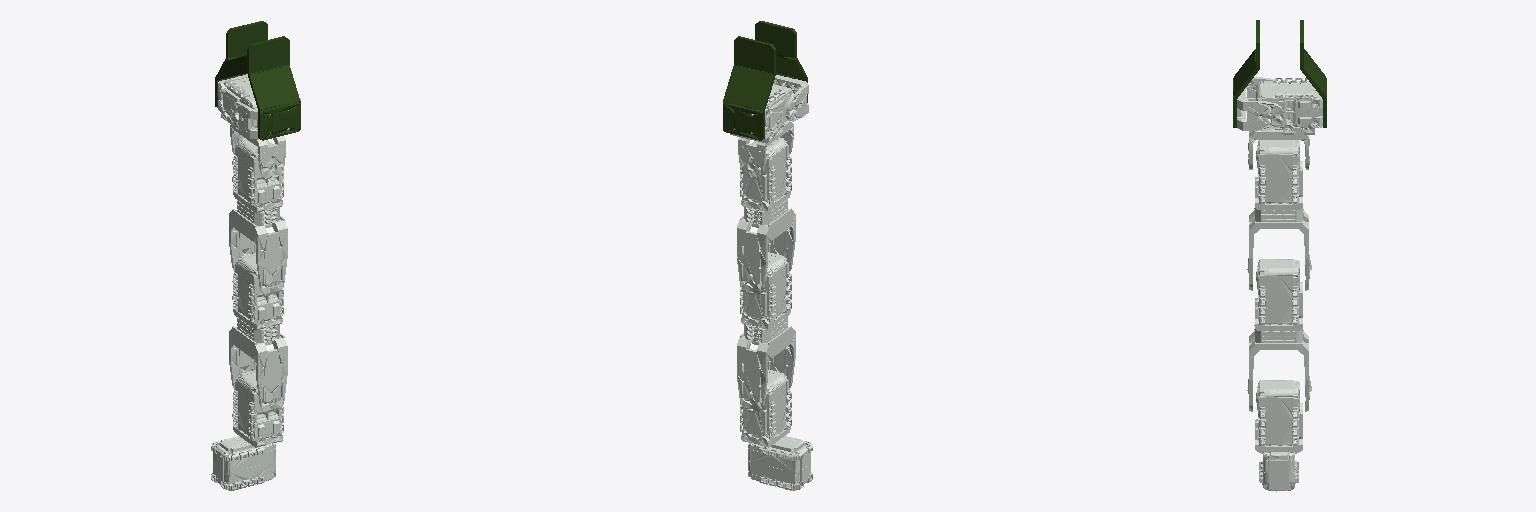
The robot description file, URDF, robot "turtlebot_arm":
<?xml version="1.0" ?>
<!-- =================================================================================== -->
<!-- |    This document was autogenerated by xacro from turtlebot_arm.urdf.xacro       | -->
<!-- |    EDITING THIS FILE BY HAND IS NOT RECOMMENDED                                 | -->
<!-- =================================================================================== -->
<!-- Describe URDF for Turtlebot Arm -->
<robot name="turtlebot_arm" xmlns:xacro="http://ros.org/wiki/xacro">
  <!-- We can configure joints velocity limit and lower/upper limits
          to allow access to different operational areas, e.g. left handed vs. right handed robot -->
  <!-- Included URDF Files -->
  <material name="White">
    <color rgba="0.87 0.90 0.87 1.0"/>
  </material>
  <material name="Black">
    <color rgba="0.08 0.08 0.08 1.0"/>
  </material>
  <material name="Gray">
    <color rgba="0.2 0.2 0.21 1.0"/>
  </material>
  <material name="Green">
    <color rgba="0.22 0.32 0.14 1.0"/>
  </material>
  <!-- As we don't have here a turtlebot base, add a base_link link as its location reference -->
  <link name="base_link"/>
  <!-- Turtlebot arm macro -->
  <link name="arm_base_link"/>
  <joint name="arm_base_joint" type="fixed">
    <origin xyz="0.1 0.03 0.435"/>
    <parent link="base_link"/>
    <child link="arm_base_link"/>
  </joint>
  <link name="gripper_link"/>
  <joint name="gripper_link_joint" type="revolute">
    <origin rpy="0 -1.57 0" xyz="0 0 0.112"/>
    <parent link="arm_wrist_flex_link"/>
    <child link="gripper_link"/>
    <limit effort="30" lower="-3.14" upper="3.14" velocity="1"/>
    <axis xyz="1 0 0"/>
  </joint>
  <joint name="arm_shoulder_pan_servo_joint" type="fixed">
    <origin rpy="1.570795 0 1.570795" xyz="0 0 0"/>
    <parent link="arm_base_link"/>
    <child link="arm_shoulder_pan_servo_link"/>
  </joint>
  <link name="arm_shoulder_pan_servo_link">
    <inertial>
      <mass value="0.055"/>
      <origin xyz="0 0 0"/>
      <inertia ixx="0.000017012" ixy="0.0" ixz="0.0" iyy="0.000013258" iyz="0.0" izz="0.000009483"/>
    </inertial>
    <visual>
      <origin rpy="0 0 0" xyz=" 0 0 0 "/>
      <geometry>
        <mesh filename="package://turtlebot_arm_description/meshes/ax12_box.stl" scale="0.001 0.001 0.001"/>
      </geometry>
      <material name="White"/>
    </visual>
    <collision>
      <origin rpy="0 0 0" xyz="0.0 0.0 -0.01241"/>
      <geometry>
        <box size="0.025 0.038 0.04762"/>
      </geometry>
    </collision>
  </link>
  <gazebo reference="arm_shoulder_pan_servo_link">
    <material>Gazebo/Black</material>
    <selfCollide>true</selfCollide>
    <gravity>true</gravity>
  </gazebo>
  <joint name="arm_shoulder_pan_joint" type="revolute">
    <origin rpy="-1.570795 1.570795 3.14159" xyz="0 0.019 0"/>
    <axis xyz="0 0 -1"/>
    <limit effort="30" lower="-2.617" upper="2.617" velocity="1.571"/>
    <dynamics friction="0.13"/>
    <parent link="arm_shoulder_pan_servo_link"/>
    <child link="arm_shoulder_pan_link"/>
  </joint>
  <link name="arm_shoulder_pan_link">
    <inertial>
      <mass value="0.008"/>
      <origin xyz="0 0 0"/>
      <inertia ixx="0.000001" ixy="0.0" ixz="0.0" iyy="0.000001" iyz="0.0" izz="0.000001"/>
    </inertial>
    <visual>
      <origin rpy="0 0 0" xyz=" 0 0 0 "/>
      <geometry>
        <mesh filename="package://turtlebot_arm_description/meshes/F3.stl" scale="0.001 0.001 0.001"/>
      </geometry>
      <material name="White"/>
    </visual>
    <collision>
      <origin rpy="0 0 0" xyz="0.0 0.0 -0.0045"/>
      <geometry>
        <box size="0.025 0.038 0.009"/>
      </geometry>
    </collision>
  </link>
  <gazebo reference="arm_shoulder_pan_link">
    <material>Gazebo/White</material>
    <selfCollide>true</selfCollide>
    <gravity>true</gravity>
  </gazebo>
  <joint name="arm_shoulder_lift_servo_joint" type="fixed">
    <origin rpy="0 3.14159 0" xyz="0 0 -0.0415"/>
    <parent link="arm_shoulder_pan_link"/>
    <child link="arm_shoulder_lift_servo_link"/>
  </joint>
  <link name="arm_shoulder_lift_servo_link">
    <inertial>
      <mass value="0.055"/>
      <origin xyz="0 0 0"/>
      <inertia ixx="0.000017012" ixy="0.0" ixz="0.0" iyy="0.000013258" iyz="0.0" izz="0.000009483"/>
    </inertial>
    <visual>
      <origin rpy="0 0 0" xyz=" 0 0 0 "/>
      <geometry>
        <mesh filename="package://turtlebot_arm_description/meshes/ax12_box.stl" scale="0.001 0.001 0.001"/>
      </geometry>
      <material name="White"/>
    </visual>
    <collision>
      <origin rpy="0 0 0" xyz="0.0 0.0 -0.01241"/>
      <geometry>
        <box size="0.025 0.038 0.04762"/>
      </geometry>
    </collision>
  </link>
  <gazebo reference="arm_shoulder_lift_servo_link">
    <material>Gazebo/Black</material>
    <selfCollide>true</selfCollide>
    <gravity>true</gravity>
  </gazebo>
  <joint name="arm_shoulder_lift_joint" type="revolute">
    <origin rpy="0 0 0" xyz="0 0 0"/>
    <axis xyz="0 1 0"/>
    <limit effort="30" lower="-2.617" upper="2.617" velocity="1.571"/>
    <dynamics friction="0.13"/>
    <parent link="arm_shoulder_lift_servo_link"/>
    <child link="arm_shoulder_lift_link"/>
  </joint>
  <link name="arm_shoulder_lift_link">
    <inertial>
      <mass value="0.016"/>
      <origin xyz="0 0 0"/>
      <inertia ixx="0.000001" ixy="0.0" ixz="0.0" iyy="0.000001" iyz="0.0" izz="0.000001"/>
    </inertial>
    <visual>
      <origin rpy="0 0 0" xyz=" 0 0 0 "/>
      <geometry>
        <mesh filename="package://turtlebot_arm_description/meshes/F4.stl" scale="0.001 0.001 0.001"/>
      </geometry>
      <material name="White"/>
    </visual>
    <collision>
      <origin rpy="0 0 0" xyz="0.0 0.0 0.0215"/>
      <geometry>
        <box size="0.028 0.0485 0.065"/>
      </geometry>
    </collision>
  </link>
  <gazebo reference="arm_shoulder_lift_link">
    <material>Gazebo/White</material>
    <selfCollide>true</selfCollide>
    <gravity>true</gravity>
  </gazebo>
  <joint name="arm_shoulder_F10_0_joint" type="fixed">
    <origin rpy="0 0 0" xyz="0 0 0.0545"/>
    <parent link="arm_shoulder_lift_link"/>
    <child link="arm_shoulder_F10_0_link"/>
  </joint>
  <link name="arm_shoulder_F10_0_link">
    <inertial>
      <mass value="0.004"/>
      <origin xyz="0 0 0"/>
      <inertia ixx="0.000001" ixy="0.0" ixz="0.0" iyy="0.000001" iyz="0.0" izz="0.000001"/>
    </inertial>
    <visual>
      <origin rpy="0 0 0" xyz=" 0 0 0 "/>
      <geometry>
        <mesh filename="package://turtlebot_arm_description/meshes/F10.stl" scale="0.001 0.001 0.001"/>
      </geometry>
      <material name="White"/>
    </visual>
    <collision>
      <origin rpy="0 0 0" xyz="0.0 0.0 0.0"/>
      <geometry>
        <box size="0.025 0.038 0.004"/>
      </geometry>
    </collision>
  </link>
  <gazebo reference="arm_shoulder_F10_0_link">
    <material>Gazebo/White</material>
    <selfCollide>true</selfCollide>
    <gravity>true</gravity>
  </gazebo>
  <joint name="arm_shoulder_F10_1_joint" type="fixed">
    <origin rpy="0 0 0" xyz="0 0 0.004"/>
    <parent link="arm_shoulder_F10_0_link"/>
    <child link="arm_shoulder_F10_1_link"/>
  </joint>
  <link name="arm_shoulder_F10_1_link">
    <inertial>
      <mass value="0.004"/>
      <origin xyz="0 0 0"/>
      <inertia ixx="0.000001" ixy="0.0" ixz="0.0" iyy="0.000001" iyz="0.0" izz="0.000001"/>
    </inertial>
    <visual>
      <origin rpy="0 0 0" xyz=" 0 0 0 "/>
      <geometry>
        <mesh filename="package://turtlebot_arm_description/meshes/F10.stl" scale="0.001 0.001 0.001"/>
      </geometry>
      <material name="White"/>
    </visual>
    <collision>
      <origin rpy="0 0 0" xyz="0.0 0.0 0.0"/>
      <geometry>
        <box size="0.025 0.038 0.004"/>
      </geometry>
    </collision>
  </link>
  <gazebo reference="arm_shoulder_F10_1_link">
    <material>Gazebo/White</material>
    <selfCollide>true</selfCollide>
    <gravity>true</gravity>
  </gazebo>
  <joint name="arm_shoulder_F10_2_joint" type="fixed">
    <origin rpy="0 0 0" xyz="0 0 0.004"/>
    <parent link="arm_shoulder_F10_1_link"/>
    <child link="arm_shoulder_F10_2_link"/>
  </joint>
  <link name="arm_shoulder_F10_2_link">
    <inertial>
      <mass value="0.004"/>
      <origin xyz="0 0 0"/>
      <inertia ixx="0.000001" ixy="0.0" ixz="0.0" iyy="0.000001" iyz="0.0" izz="0.000001"/>
    </inertial>
    <visual>
      <origin rpy="0 0 0" xyz=" 0 0 0 "/>
      <geometry>
        <mesh filename="package://turtlebot_arm_description/meshes/F10.stl" scale="0.001 0.001 0.001"/>
      </geometry>
      <material name="White"/>
    </visual>
    <collision>
      <origin rpy="0 0 0" xyz="0.0 0.0 0.0"/>
      <geometry>
        <box size="0.025 0.038 0.004"/>
      </geometry>
    </collision>
  </link>
  <gazebo reference="arm_shoulder_F10_2_link">
    <material>Gazebo/White</material>
    <selfCollide>true</selfCollide>
    <gravity>true</gravity>
  </gazebo>
  <joint name="arm_shoulder_F3_0_joint" type="fixed">
    <origin rpy="0 3.14159 0" xyz="0 0 0.002"/>
    <parent link="arm_shoulder_F10_2_link"/>
    <child link="arm_shoulder_F3_0_link"/>
  </joint>
  <link name="arm_shoulder_F3_0_link">
    <inertial>
      <mass value="0.005"/>
      <origin xyz="0 0 0"/>
      <inertia ixx="0.000001" ixy="0.0" ixz="0.0" iyy="0.000001" iyz="0.0" izz="0.000001"/>
    </inertial>
    <visual>
      <origin rpy="0 0 0" xyz=" 0 0 0 "/>
      <geometry>
        <mesh filename="package://turtlebot_arm_description/meshes/F3.stl" scale="0.001 0.001 0.001"/>
      </geometry>
      <material name="White"/>
    </visual>
    <collision>
      <origin rpy="0 0 0" xyz="0.0 0.0 -0.0045"/>
      <geometry>
        <box size="0.025 0.038 0.009"/>
      </geometry>
    </collision>
  </link>
  <gazebo reference="arm_shoulder_F3_0_link">
    <material>Gazebo/White</material>
    <selfCollide>true</selfCollide>
    <gravity>true</gravity>
  </gazebo>
  <joint name="arm_elbow_flex_servo_joint" type="fixed">
    <origin rpy="0 3.14159 0" xyz="0 0 -0.0415"/>
    <parent link="arm_shoulder_F3_0_link"/>
    <child link="arm_elbow_flex_servo_link"/>
  </joint>
  <link name="arm_elbow_flex_servo_link">
    <inertial>
      <mass value="0.055"/>
      <origin xyz="0 0 0"/>
      <inertia ixx="0.000017012" ixy="0.0" ixz="0.0" iyy="0.000013258" iyz="0.0" izz="0.000009483"/>
    </inertial>
    <visual>
      <origin rpy="0 0 0" xyz=" 0 0 0 "/>
      <geometry>
        <mesh filename="package://turtlebot_arm_description/meshes/ax12_box.stl" scale="0.001 0.001 0.001"/>
      </geometry>
      <material name="White"/>
    </visual>
    <collision>
      <origin rpy="0 0 0" xyz="0.0 0.0 -0.01241"/>
      <geometry>
        <box size="0.025 0.038 0.04762"/>
      </geometry>
    </collision>
  </link>
  <gazebo reference="arm_elbow_flex_servo_link">
    <material>Gazebo/Black</material>
    <selfCollide>true</selfCollide>
    <gravity>true</gravity>
  </gazebo>
  <joint name="arm_elbow_flex_joint" type="revolute">
    <origin rpy="0 0 0" xyz="0 0 0"/>
    <axis xyz="0 1 0"/>
    <limit effort="30" lower="-2.617" upper="2.617" velocity="1.571"/>
    <dynamics friction="0.13"/>
    <parent link="arm_elbow_flex_servo_link"/>
    <child link="arm_elbow_flex_link"/>
  </joint>
  <link name="arm_elbow_flex_link">
    <inertial>
      <mass value="0.016"/>
      <origin xyz="0 0 0"/>
      <inertia ixx="0.000001" ixy="0.0" ixz="0.0" iyy="0.000001" iyz="0.0" izz="0.000001"/>
    </inertial>
    <visual>
      <origin rpy="0 0 0" xyz=" 0 0 0 "/>
      <geometry>
        <mesh filename="package://turtlebot_arm_description/meshes/F4.stl" scale="0.001 0.001 0.001"/>
      </geometry>
      <material name="White"/>
    </visual>
    <collision>
      <origin rpy="0 0 0" xyz="0.0 0.0 0.0215"/>
      <geometry>
        <box size="0.028 0.0485 0.065"/>
      </geometry>
    </collision>
  </link>
  <gazebo reference="arm_elbow_flex_link">
    <material>Gazebo/White</material>
    <selfCollide>true</selfCollide>
    <gravity>true</gravity>
  </gazebo>
  <joint name="arm_elbow_F10_0_joint" type="fixed">
    <origin rpy="0 0 0" xyz="0 0 0.0545"/>
    <parent link="arm_elbow_flex_link"/>
    <child link="arm_elbow_F10_0_link"/>
  </joint>
  <link name="arm_elbow_F10_0_link">
    <inertial>
      <mass value="0.004"/>
      <origin xyz="0 0 0"/>
      <inertia ixx="0.000001" ixy="0.0" ixz="0.0" iyy="0.000001" iyz="0.0" izz="0.000001"/>
    </inertial>
    <visual>
      <origin rpy="0 0 0" xyz=" 0 0 0 "/>
      <geometry>
        <mesh filename="package://turtlebot_arm_description/meshes/F10.stl" scale="0.001 0.001 0.001"/>
      </geometry>
      <material name="White"/>
    </visual>
    <collision>
      <origin rpy="0 0 0" xyz="0.0 0.0 0.0"/>
      <geometry>
        <box size="0.025 0.038 0.004"/>
      </geometry>
    </collision>
  </link>
  <gazebo reference="arm_elbow_F10_0_link">
    <material>Gazebo/White</material>
    <selfCollide>true</selfCollide>
    <gravity>true</gravity>
  </gazebo>
  <joint name="arm_elbow_F10_1_joint" type="fixed">
    <origin rpy="0 0 0" xyz="0 0 0.004"/>
    <parent link="arm_elbow_F10_0_link"/>
    <child link="arm_elbow_F10_1_link"/>
  </joint>
  <link name="arm_elbow_F10_1_link">
    <inertial>
      <mass value="0.004"/>
      <origin xyz="0 0 0"/>
      <inertia ixx="0.000001" ixy="0.0" ixz="0.0" iyy="0.000001" iyz="0.0" izz="0.000001"/>
    </inertial>
    <visual>
      <origin rpy="0 0 0" xyz=" 0 0 0 "/>
      <geometry>
        <mesh filename="package://turtlebot_arm_description/meshes/F10.stl" scale="0.001 0.001 0.001"/>
      </geometry>
      <material name="White"/>
    </visual>
    <collision>
      <origin rpy="0 0 0" xyz="0.0 0.0 0.0"/>
      <geometry>
        <box size="0.025 0.038 0.004"/>
      </geometry>
    </collision>
  </link>
  <gazebo reference="arm_elbow_F10_1_link">
    <material>Gazebo/White</material>
    <selfCollide>true</selfCollide>
    <gravity>true</gravity>
  </gazebo>
  <joint name="arm_elbow_F10_2_joint" type="fixed">
    <origin rpy="0 0 0" xyz="0 0 0.004"/>
    <parent link="arm_elbow_F10_1_link"/>
    <child link="arm_elbow_F10_2_link"/>
  </joint>
  <link name="arm_elbow_F10_2_link">
    <inertial>
      <mass value="0.004"/>
      <origin xyz="0 0 0"/>
      <inertia ixx="0.000001" ixy="0.0" ixz="0.0" iyy="0.000001" iyz="0.0" izz="0.000001"/>
    </inertial>
    <visual>
      <origin rpy="0 0 0" xyz=" 0 0 0 "/>
      <geometry>
        <mesh filename="package://turtlebot_arm_description/meshes/F10.stl" scale="0.001 0.001 0.001"/>
      </geometry>
      <material name="White"/>
    </visual>
    <collision>
      <origin rpy="0 0 0" xyz="0.0 0.0 0.0"/>
      <geometry>
        <box size="0.025 0.038 0.004"/>
      </geometry>
    </collision>
  </link>
  <gazebo reference="arm_elbow_F10_2_link">
    <material>Gazebo/White</material>
    <selfCollide>true</selfCollide>
    <gravity>true</gravity>
  </gazebo>
  <joint name="arm_elbow_F3_0_joint" type="fixed">
    <origin rpy="0 3.14159 0" xyz="0 0 0.002"/>
    <parent link="arm_elbow_F10_2_link"/>
    <child link="arm_elbow_F3_0_link"/>
  </joint>
  <link name="arm_elbow_F3_0_link">
    <inertial>
      <mass value="0.005"/>
      <origin xyz="0 0 0"/>
      <inertia ixx="0.000001" ixy="0.0" ixz="0.0" iyy="0.000001" iyz="0.0" izz="0.000001"/>
    </inertial>
    <visual>
      <origin rpy="0 0 0" xyz=" 0 0 0 "/>
      <geometry>
        <mesh filename="package://turtlebot_arm_description/meshes/F3.stl" scale="0.001 0.001 0.001"/>
      </geometry>
      <material name="White"/>
    </visual>
    <collision>
      <origin rpy="0 0 0" xyz="0.0 0.0 -0.0045"/>
      <geometry>
        <box size="0.025 0.038 0.009"/>
      </geometry>
    </collision>
  </link>
  <gazebo reference="arm_elbow_F3_0_link">
    <material>Gazebo/White</material>
    <selfCollide>true</selfCollide>
    <gravity>true</gravity>
  </gazebo>
  <joint name="arm_wrist_flex_servo_joint" type="fixed">
    <origin rpy="0 3.14159 0" xyz="0 0 -0.0415"/>
    <parent link="arm_elbow_F3_0_link"/>
    <child link="arm_wrist_flex_servo_link"/>
  </joint>
  <link name="arm_wrist_flex_servo_link">
    <inertial>
      <mass value="0.055"/>
      <origin xyz="0 0 0"/>
      <inertia ixx="0.000017012" ixy="0.0" ixz="0.0" iyy="0.000013258" iyz="0.0" izz="0.000009483"/>
    </inertial>
    <visual>
      <origin rpy="0 0 0" xyz=" 0 0 0 "/>
      <geometry>
        <mesh filename="package://turtlebot_arm_description/meshes/ax12_box.stl" scale="0.001 0.001 0.001"/>
      </geometry>
      <material name="White"/>
    </visual>
    <collision>
      <origin rpy="0 0 0" xyz="0.0 0.0 -0.01241"/>
      <geometry>
        <box size="0.025 0.038 0.04762"/>
      </geometry>
    </collision>
  </link>
  <gazebo reference="arm_wrist_flex_servo_link">
    <material>Gazebo/Black</material>
    <selfCollide>true</selfCollide>
    <gravity>true</gravity>
  </gazebo>
  <joint name="arm_wrist_flex_joint" type="revolute">
    <origin rpy="0 0 0" xyz="0 0 0"/>
    <axis xyz="0 1 0"/>
    <limit effort="30" lower="-1.745" upper="1.745" velocity="1.571"/>
    <dynamics friction="0.13"/>
    <parent link="arm_wrist_flex_servo_link"/>
    <child link="arm_wrist_flex_link"/>
  </joint>
  <link name="arm_wrist_flex_link">
    <inertial>
      <mass value="0.010"/>
      <origin xyz="0 0 0"/>
      <inertia ixx="0.000001" ixy="0.0" ixz="0.0" iyy="0.000001" iyz="0.0" izz="0.000001"/>
    </inertial>
    <visual>
      <origin rpy="0 0 0" xyz=" 0 0 0 "/>
      <geometry>
        <mesh filename="package://turtlebot_arm_description/meshes/F2.stl" scale="0.001 0.001 0.001"/>
      </geometry>
      <material name="White"/>
    </visual>
    <collision>
      <origin rpy="0 0 0" xyz="0.0 0.0 0.00775"/>
      <geometry>
        <box size="0.025 0.0485 0.0375"/>
      </geometry>
    </collision>
  </link>
  <gazebo reference="arm_wrist_flex_link">
    <material>Gazebo/White</material>
    <selfCollide>true</selfCollide>
    <gravity>true</gravity>
  </gazebo>
  <joint name="arm_wrist_F3_0_joint" type="fixed">
    <origin rpy="0 3.14159 -1.570795" xyz="0 0.016 0.0265"/>
    <parent link="arm_wrist_flex_link"/>
    <child link="arm_wrist_F3_0_link"/>
  </joint>
  <link name="arm_wrist_F3_0_link">
    <inertial>
      <mass value="0.005"/>
      <origin xyz="0 0 0"/>
      <inertia ixx="0.000001" ixy="0.0" ixz="0.0" iyy="0.000001" iyz="0.0" izz="0.000001"/>
    </inertial>
    <visual>
      <origin rpy="0 0 0" xyz=" 0 0 0 "/>
      <geometry>
        <mesh filename="package://turtlebot_arm_description/meshes/F3.stl" scale="0.001 0.001 0.001"/>
      </geometry>
      <material name="White"/>
    </visual>
    <collision>
      <origin rpy="0 0 0" xyz="0.0 0.0 -0.0045"/>
      <geometry>
        <box size="0.025 0.038 0.009"/>
      </geometry>
    </collision>
  </link>
  <gazebo reference="arm_wrist_F3_0_link">
    <material>Gazebo/White</material>
    <selfCollide>true</selfCollide>
    <gravity>true</gravity>
  </gazebo>
  <joint name="gripper_servo_joint" type="fixed">
    <origin rpy="3.14159 1.570795 0" xyz="-0.02275 0 -0.019"/>
    <parent link="arm_wrist_F3_0_link"/>
    <child link="gripper_servo_link"/>
  </joint>
  <link name="gripper_servo_link">
    <inertial>
      <mass value="0.055"/>
      <origin xyz="0 0 0"/>
      <inertia ixx="0.000017012" ixy="0.0" ixz="0.0" iyy="0.000013258" iyz="0.0" izz="0.000009483"/>
    </inertial>
    <visual>
      <origin rpy="0 0 0" xyz=" 0 0 0 "/>
      <geometry>
        <mesh filename="package://turtlebot_arm_description/meshes/ax12_box.stl" scale="0.001 0.001 0.001"/>
      </geometry>
      <material name="White"/>
    </visual>
    <collision>
      <origin rpy="0 0 0" xyz="0.0 0.0 -0.01241"/>
      <geometry>
        <box size="0.025 0.038 0.04762"/>
      </geometry>
    </collision>
  </link>
  <gazebo reference="gripper_servo_link">
    <material>Gazebo/Black</material>
    <selfCollide>true</selfCollide>
    <gravity>true</gravity>
  </gazebo>
  <joint name="gripper_joint" type="revolute">
    <origin rpy="0 0 0" xyz="0 0 0"/>
    <axis xyz="0 1 0"/>
    <limit effort="30" lower="-0.40" upper="0.46" velocity="0.785"/>
    <parent link="gripper_servo_link"/>
    <child link="gripper_active_link"/>
  </joint>
  <link name="gripper_active_link">
    <inertial>
      <mass value="0.010"/>
      <origin xyz="0 0 0"/>
      <inertia ixx="0.000001" ixy="0.0" ixz="0.0" iyy="0.000001" iyz="0.0" izz="0.000001"/>
    </inertial>
    <visual>
      <origin rpy="0 0 0" xyz=" 0 0 0 "/>
      <geometry>
        <mesh filename="package://turtlebot_arm_description/meshes/F2.stl" scale="0.001 0.001 0.001"/>
      </geometry>
      <material name="White"/>
    </visual>
    <collision>
      <origin rpy="0 0 0" xyz="0.0 0.0 0.00775"/>
      <geometry>
        <box size="0.025 0.0485 0.0375"/>
      </geometry>
    </collision>
  </link>
  <joint name="gripper_active_finger_joint" type="fixed">
    <origin rpy="0 0 0" xyz="0 0 0.0265"/>
    <parent link="gripper_active_link"/>
    <child link="gripper_active_finger_link"/>
  </joint>
  <link name="gripper_active_finger_link">
    <inertial>
      <mass value="0.015"/>
      <origin xyz="0 0 0"/>
      <inertia ixx="0.000001" ixy="0.0" ixz="0.0" iyy="0.000001" iyz="0.0" izz="0.000001"/>
    </inertial>
    <visual>
      <origin rpy="0 0 0" xyz=" 0 0 0 "/>
      <geometry>
        <mesh filename="package://turtlebot_arm_description/meshes/turtlebot_finger.stl" scale="0.001 0.001 0.001"/>
      </geometry>
      <material name="Green"/>
    </visual>
    <collision>
      <origin rpy="0 0 0" xyz="0.02645 0.0 -0.00655"/>
      <geometry>
        <box size="0.0783 0.03801 0.0193"/>
      </geometry>
    </collision>
  </link>
  <gazebo reference="gripper_active_finger_link">
    <material>Gazebo/Green</material>
    <selfCollide>true</selfCollide>
    <gravity>true</gravity>
  </gazebo>
  <joint name="gripper_static_joint" type="fixed">
    <origin rpy="0 3.14159 0" xyz="0 0 -0.0415"/>
    <parent link="gripper_servo_link"/>
    <child link="gripper_static_link"/>
  </joint>
  <link name="gripper_static_link">
    <inertial>
      <mass value="0.005"/>
      <origin xyz="0 0 0"/>
      <inertia ixx="0.000001" ixy="0.0" ixz="0.0" iyy="0.000001" iyz="0.0" izz="0.000001"/>
    </inertial>
    <visual>
      <origin rpy="0 0 0" xyz=" 0 0 0 "/>
      <geometry>
        <mesh filename="package://turtlebot_arm_description/meshes/F3.stl" scale="0.001 0.001 0.001"/>
      </geometry>
      <material name="White"/>
    </visual>
    <collision>
      <origin rpy="0 0 0" xyz="0.0 0.0 -0.0045"/>
      <geometry>
        <box size="0.025 0.038 0.009"/>
      </geometry>
    </collision>
  </link>
  <gazebo reference="gripper_static_link">
    <material>Gazebo/White</material>
    <selfCollide>true</selfCollide>
    <gravity>true</gravity>
  </gazebo>
  <joint name="gripper_static_finger_joint" type="fixed">
    <origin rpy="0 0 3.14159" xyz="0 0 0"/>
    <parent link="gripper_static_link"/>
    <child link="gripper_static_finger_link"/>
  </joint>
  <link name="gripper_static_finger_link">
    <inertial>
      <mass value="0.015"/>
      <origin xyz="0 0 0"/>
      <inertia ixx="0.000001" ixy="0.0" ixz="0.0" iyy="0.000001" iyz="0.0" izz="0.000001"/>
    </inertial>
    <visual>
      <origin rpy="0 0 0" xyz=" 0 0 0 "/>
      <geometry>
        <mesh filename="package://turtlebot_arm_description/meshes/turtlebot_finger.stl" scale="0.001 0.001 0.001"/>
      </geometry>
      <material name="Green"/>
    </visual>
    <collision>
      <origin rpy="0 0 0" xyz="0.02645 0.0 -0.00655"/>
      <geometry>
        <box size="0.0783 0.03801 0.0193"/>
      </geometry>
    </collision>
  </link>
  <gazebo reference="gripper_static_finger_link">
    <material>Gazebo/Green</material>
    <selfCollide>true</selfCollide>
    <gravity>true</gravity>
  </gazebo>
</robot>

--- Facts derived from the render (not from the file) ---
The picture shows the robot from 3 angles, left to right: view 1: azimuth 30°, elevation 25°; view 2: azimuth 150°, elevation 25°; view 3: azimuth 270°, elevation 25°; orthographic projection.
Robot: turtlebot_arm — 25 links, 24 joints (6 revolute, 18 fixed); root link base_link; default pose: all joints at 0.
Visible links, largest first — view 1: gripper_active_finger_link, arm_shoulder_lift_link, arm_elbow_flex_link, arm_shoulder_pan_servo_link, arm_elbow_flex_servo_link, arm_shoulder_lift_servo_link, arm_wrist_flex_servo_link, gripper_static_finger_link, arm_wrist_flex_link, gripper_servo_link, gripper_active_link; view 2: gripper_static_finger_link, arm_elbow_flex_link, arm_shoulder_lift_link, arm_shoulder_pan_servo_link, arm_shoulder_lift_servo_link, arm_elbow_flex_servo_link, arm_wrist_flex_servo_link, gripper_active_finger_link, arm_wrist_flex_link, gripper_active_link, gripper_servo_link; view 3: arm_elbow_flex_servo_link, arm_shoulder_lift_servo_link, arm_wrist_flex_servo_link, gripper_servo_link, gripper_active_link, arm_shoulder_pan_servo_link, arm_shoulder_lift_link, arm_elbow_flex_link, gripper_active_finger_link, gripper_static_finger_link, arm_wrist_flex_link.
Boxes of the visible links, <box> form: gripper_active_finger_link: <box>247,36,300,140</box>; arm_shoulder_lift_link: <box>229,326,287,412</box>; arm_elbow_flex_link: <box>229,209,287,295</box>; arm_shoulder_pan_servo_link: <box>211,436,275,490</box>; arm_elbow_flex_servo_link: <box>232,253,283,323</box>; arm_shoulder_lift_servo_link: <box>232,370,283,441</box>; arm_wrist_flex_servo_link: <box>232,138,283,206</box>; gripper_static_finger_link: <box>215,21,267,107</box>; arm_wrist_flex_link: <box>230,125,285,178</box>; gripper_servo_link: <box>223,78,256,127</box>; gripper_active_link: <box>231,98,300,139</box>; gripper_static_finger_link: <box>723,36,775,140</box>; arm_elbow_flex_link: <box>737,208,795,295</box>; arm_shoulder_lift_link: <box>737,326,795,412</box>; arm_shoulder_pan_servo_link: <box>748,436,812,490</box>; arm_shoulder_lift_servo_link: <box>740,370,791,440</box>; arm_elbow_flex_servo_link: <box>740,252,791,323</box>; arm_wrist_flex_servo_link: <box>740,137,791,205</box>; gripper_active_finger_link: <box>755,21,807,102</box>; arm_wrist_flex_link: <box>738,120,793,178</box>; gripper_active_link: <box>773,75,808,121</box>; gripper_servo_link: <box>766,84,793,132</box>; arm_elbow_flex_servo_link: <box>1255,259,1302,325</box>; arm_shoulder_lift_servo_link: <box>1255,380,1302,446</box>; arm_wrist_flex_servo_link: <box>1255,140,1302,204</box>; gripper_servo_link: <box>1256,78,1316,129</box>; gripper_active_link: <box>1237,77,1283,130</box>; arm_shoulder_pan_servo_link: <box>1259,452,1298,491</box>; arm_shoulder_lift_link: <box>1247,331,1311,411</box>; arm_elbow_flex_link: <box>1247,210,1311,290</box>; gripper_active_finger_link: <box>1233,20,1259,127</box>; gripper_static_finger_link: <box>1300,20,1326,127</box>; arm_wrist_flex_link: <box>1248,127,1309,169</box>.
Bounding box of the posed robot: 0.0636 × 0.0745 × 0.4026 m (x, y, z).
Meshes: 6 distinct files referenced, 22 mesh visuals loaded (6 binary STL).